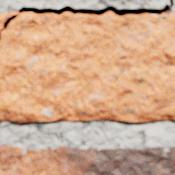brick: (0, 145, 174, 174)
broken_brick: (0, 12, 174, 121)
crack: (2, 0, 173, 30)
